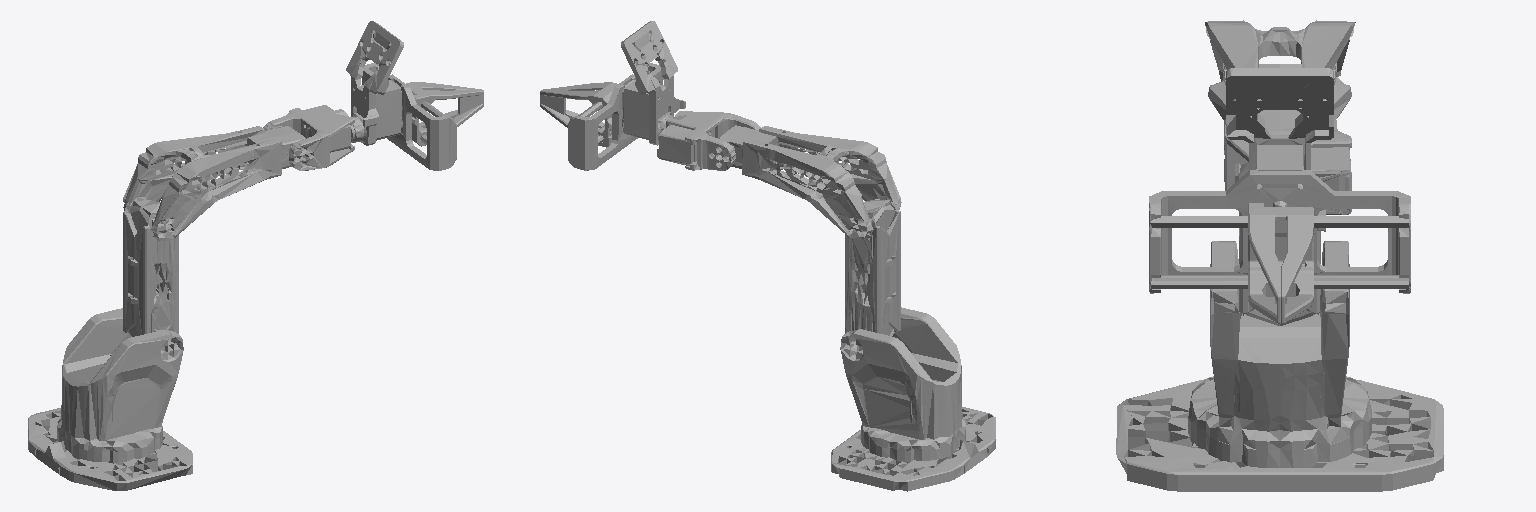
The robot description file, URDF, robot "so_arm_102_pre_for_urdf_v5":
<?xml version='1.0' encoding='utf-8'?>
<robot name="so_arm_102_pre_for_urdf_v5">
  <material name="silver">
    <color rgba="0.700 0.700 0.700 1.000" />
  </material>
  <link name="base_link">
    <inertial>
      <origin xyz="-0.00753657459228 2.70964811146e-05 0.013641047398" rpy="0 0 0" />
      <mass value="0.178499229726" />
      <inertia ixx="0.000199871543864" iyy="0.000148679123423" izz="0.000331455821027" ixy="1.90199840717e-07" iyz="4.23062670743e-08" ixz="-2.10081183092e-06" />
    </inertial>
    <visual>
      <origin xyz="-0 -0 -0" rpy="0 0 0" />
      <geometry>
        <mesh filename="meshes/base_link.stl" scale="0.001 0.001 0.001" />
      </geometry>
      <material name="silver" />
    </visual>
  </link>
  <link name="link1_1">
    <inertial>
      <origin xyz="0.000323477926688 -9.49285422888e-06 0.0277445919724" rpy="0 0 0" />
      <mass value="0.201603775922" />
      <inertia ixx="0.000198444068688" iyy="0.000237480937143" izz="0.000210354023061" ixy="7.13434120346e-08" iyz="8.6838415384e-08" ixz="-3.34183738347e-05" />
    </inertial>
    <visual>
      <origin xyz="0.006 1.10978314851e-16 -0.025" rpy="0 0 0" />
      <geometry>
        <mesh filename="meshes/link1_1.stl" scale="0.001 0.001 0.001" />
      </geometry>
      <material name="silver" />
    </visual>
  </link>
  <link name="link2_1">
    <inertial>
      <origin xyz="-9.08588393138e-05 0.0179996080154 0.0565027997369" rpy="0 0 0" />
      <mass value="0.180993297738" />
      <inertia ixx="0.000343822377525" iyy="0.000338733474867" izz="3.40211492897e-05" ixy="3.26214111802e-10" iyz="1.62595657322e-06" ixz="-8.83251140382e-08" />
    </inertial>
    <visual>
      <origin xyz="-0.034 0.018 -0.098356707952" rpy="0 0 0" />
      <geometry>
        <mesh filename="meshes/link2_1.stl" scale="0.001 0.001 0.001" />
      </geometry>
      <material name="silver" />
    </visual>
  </link>
  <link name="link3_1">
    <inertial>
      <origin xyz="0.0899345844067 -0.0180532098499 0.030929698344" rpy="0 0 0" />
      <mass value="0.121036400289" />
      <inertia ixx="4.68441522042e-05" iyy="0.000261776819052" izz="0.000274572705914" ixy="-3.51127629536e-07" iyz="-1.941119197e-08" ixz="-2.45262905805e-05" />
    </inertial>
    <visual>
      <origin xyz="-0.0340339589459 -0.017999879491 -0.211357541714" rpy="0 0 0" />
      <geometry>
        <mesh filename="meshes/link3_1.stl" scale="0.001 0.001 0.001" />
      </geometry>
      <material name="silver" />
    </visual>
  </link>
  <link name="link4_1">
    <inertial>
      <origin xyz="0.0367612549493 -0.00682773158541 -9.36509085222e-05" rpy="0 0 0" />
      <mass value="0.0850684506718" />
      <inertia ixx="2.5361050179e-05" iyy="2.1143272577e-05" izz="3.58784706539e-05" ixy="-2.59566550716e-06" iyz="4.37062265793e-08" ixz="1.43173507335e-07" />
    </inertial>
    <visual>
      <origin xyz="-0.1690931926 -0.0179996182572 -0.244995122636" rpy="0 0 0" />
      <geometry>
        <mesh filename="meshes/link4_1.stl" scale="0.001 0.001 0.001" />
      </geometry>
      <material name="silver" />
    </visual>
  </link>
  <link name="link5_1">
    <inertial>
      <origin xyz="0.0344926242899 -3.24353462452e-05 0.0128432467385" rpy="0 0 0" />
      <mass value="0.106616468137" />
      <inertia ixx="9.43485888891e-05" iyy="6.44606301656e-05" izz="7.93067623665e-05" ixy="-3.08426233239e-07" iyz="5.47431071095e-08" ixz="8.10180709222e-06" />
    </inertial>
    <visual>
      <origin xyz="-0.22828777435 6.48704621215e-07 -0.244954758855" rpy="0 0 0" />
      <geometry>
        <mesh filename="meshes/link5_1.stl" scale="0.001 0.001 0.001" />
      </geometry>
      <material name="silver" />
    </visual>
  </link>
  <link name="clamp1_1">
    <inertial>
      <origin xyz="0.0150861322583 -0.0085189835284 -0.0166385856799" rpy="0 0 0" />
      <mass value="0.00734953722517" />
      <inertia ixx="1.97265726696e-06" iyy="5.39853666319e-06" izz="3.8596220542e-06" ixy="3.98221847911e-07" iyz="2.68780494505e-08" ixz="-1.19938943731e-07" />
    </inertial>
    <visual>
      <origin xyz="-0.292287773689 -0.0165014310175 -0.260952682391" rpy="0 0 0" />
      <geometry>
        <mesh filename="meshes/clamp1_1.stl" scale="0.001 0.001 0.001" />
      </geometry>
      <material name="silver" />
    </visual>
  </link>
  <link name="clamp2_1">
    <inertial>
      <origin xyz="0.0150861312617 0.00851898352954 -0.0153534196604" rpy="0 0 0" />
      <mass value="0.00734953759363" />
      <inertia ixx="1.97257592577e-06" iyy="5.3984553248e-06" izz="3.85962221953e-06" ixy="-3.98222180309e-07" iyz="2.74954514022e-08" ixz="1.20960862679e-07" />
    </inertial>
    <visual>
      <origin xyz="-0.292287775113 0.0154985689825 -0.260952680771" rpy="0 0 0" />
      <geometry>
        <mesh filename="meshes/clamp2_1.stl" scale="0.001 0.001 0.001" />
      </geometry>
      <material name="silver" />
    </visual>
  </link>
  <joint name="base_to_link1" type="revolute">
    <origin xyz="-0.006 -1.10978314851e-16 0.025" rpy="0 0 0" />
    <parent link="base_link" />
    <child link="link1_1" />
    <axis xyz="-3.48927236311e-15 -1.38855301773e-17 -1" />
    <limit effort="2.942" velocity="4.717" lower="-3.07177948351" upper="3.07177948351" />
  </joint>
  <joint name="link1_to_link2" type="revolute">
    <origin xyz="0.04 -0.018 0.073356707952" rpy="0 0 0" />
    <parent link="link1_1" />
    <child link="link2_1" />
    <axis xyz="3.7576779295e-14 -1 3.11848821907e-14" />
    <limit effort="4.903" velocity="7.874" lower="-2.32128790515" upper="1.58824961931" />
  </joint>
  <joint name="link2_to_link3" type="revolute">
    <origin xyz="3.39589458789e-05 0.035999879491 0.113000833762" rpy="0 0 0" />
    <parent link="link2_1" />
    <child link="link3_1" />
    <axis xyz="5.4643524895e-08 -1 3.71447673953e-08" />
    <limit effort="4.903" velocity="7.874" lower="-1.57079632679" upper="2.67035375555" />
  </joint>
  <joint name="link3_to_link4" type="revolute">
    <origin xyz="0.135059233654 -2.61233757511e-07 0.0336375809223" rpy="0 0 0" />
    <parent link="link3_1" />
    <child link="link4_1" />
    <axis xyz="-5.21611917629e-08 1 -3.41984371354e-08" />
    <limit effort="2.942" velocity="4.717" lower="-1.72787595947" upper="1.69296937443" />
  </joint>
  <joint name="link4_to_link5" type="revolute">
    <origin xyz="0.0591945817497 -0.0180002669618 -4.03637807994e-05" rpy="0 0 0" />
    <parent link="link4_1" />
    <child link="link5_1" />
    <axis xyz="-1 -4.90398764451e-08 1.40482066922e-10" />
    <limit effort="1.629" velocity="7.808" lower="-2.87979326579" upper="2.84488668075" />
  </joint>
  <joint name="clamp1" type="prismatic">
    <origin xyz="0.0639999993385 0.0165020797222 0.0159979235363" rpy="0 0 0" />
    <parent link="link5_1" />
    <child link="clamp1_1" />
    <axis xyz="-5.21612507542e-08 1 4.50838078172e-08" />
    <limit effort="226.2" velocity="0.0562" lower="0" upper="0.0415" />
  </joint>
  <joint name="clamp2" type="prismatic">
    <origin xyz="0.0640000007627 -0.0154979202778 0.0159979219163" rpy="0 0 0" />
    <parent link="link5_1" />
    <child link="clamp2_1" />
    <axis xyz="-4.9039873492e-08 1 4.73420869362e-08" />
    <limit effort="226.2" velocity="0.0562" lower="-0.0415" upper="3.46944695195e-17" />
    <mimic joint="clamp1" multiplier="-1" offset="0" />
  </joint>
</robot>

--- What the picture shows (computed from the rendered views, not written in the file) ---
The picture shows the robot from 3 angles, left to right: view 1: azimuth 30°, elevation 25°; view 2: azimuth 150°, elevation 25°; view 3: azimuth 270°, elevation 25°; orthographic projection.
Model so_arm_102_pre_for_urdf_v5 with 8 links and 7 joints (5 revolute, 2 prismatic), rooted at base_link, posed all joints at 0.
Links seen in each view (by area): view 1: link1_1, link3_1, link5_1, link2_1, base_link, link4_1, clamp2_1; view 2: link1_1, link3_1, link5_1, link2_1, base_link, link4_1, clamp1_1; view 3: link1_1, link5_1, base_link, link3_1, clamp2_1, clamp1_1, link4_1, link2_1.
Link boxes in pixels (bbox=[...]): link1_1: bbox=[57, 308, 183, 462]; link3_1: bbox=[123, 126, 305, 240]; link5_1: bbox=[346, 21, 456, 170]; link2_1: bbox=[123, 200, 178, 336]; base_link: bbox=[28, 408, 192, 490]; link4_1: bbox=[263, 105, 354, 170]; clamp2_1: bbox=[412, 89, 483, 146]; link1_1: bbox=[840, 307, 965, 461]; link3_1: bbox=[719, 125, 901, 240]; link5_1: bbox=[568, 21, 685, 170]; link2_1: bbox=[845, 199, 900, 335]; base_link: bbox=[831, 407, 995, 491]; link4_1: bbox=[657, 111, 760, 170]; clamp1_1: bbox=[540, 89, 611, 147]; link1_1: bbox=[1188, 241, 1371, 467]; link5_1: bbox=[1149, 68, 1410, 293]; base_link: bbox=[1116, 379, 1443, 491]; link3_1: bbox=[1205, 20, 1355, 134]; clamp2_1: bbox=[1248, 203, 1280, 323]; clamp1_1: bbox=[1281, 207, 1313, 323]; link4_1: bbox=[1224, 119, 1351, 231]; link2_1: bbox=[1239, 64, 1320, 325].
Size in the robot's own frame: 0.4283 by 0.16 by 0.3307 metres.
Meshes: 8 distinct files referenced, 8 mesh visuals loaded (8 binary STL).
